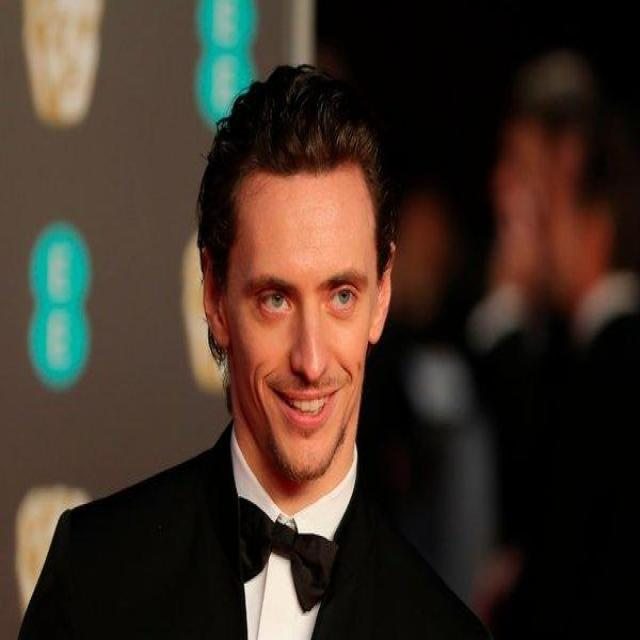human: (17, 55, 494, 640)
